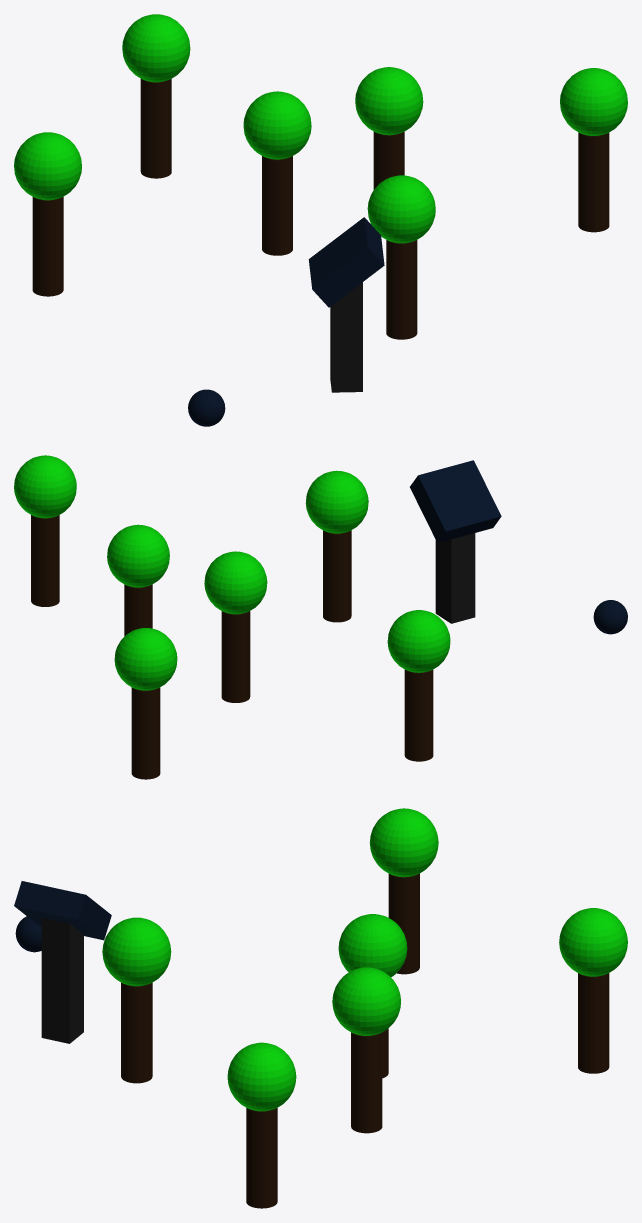
Rendered from exercise20038.obj.
The picture shows the model from 3 angles, top to bottom: view 1: azimuth 30°, elevation 25°; view 2: azimuth 150°, elevation 25°; view 3: azimuth 270°, elevation 25°; orthographic projection. The views are drawn at different scales.
Parts seen in each view (by area): view 1: Cube.001, Sphere.002, Sphere.005, Sphere.003, Sphere, Sphere.006, Sphere.004, Cube, Cylinder.004, Cylinder.006, Cylinder.005, Cylinder.003 (+4 smaller); view 2: Cube.001, Cube, Sphere.003, Sphere.004, Sphere.006, Sphere, Sphere.002, Sphere.005, Cylinder.005, Cylinder.006, Cylinder.002, Cylinder.004 (+4 smaller); view 3: Cube, Sphere.004, Sphere, Sphere.003, Sphere.005, Sphere.006, Sphere.002, Cube.001, Cylinder.003, Cylinder.005, Cylinder.004, Cylinder (+3 smaller).
Part boxes in pixels (x1=…): Cube.001: x1=308, y1=217, x2=384, y2=307; Sphere.002: x1=243, y1=91, x2=311, y2=159; Sphere.005: x1=122, y1=14, x2=190, y2=82; Sphere.003: x1=560, y1=68, x2=627, y2=135; Sphere: x1=355, y1=67, x2=423, y2=135; Sphere.006: x1=14, y1=132, x2=81, y2=200; Sphere.004: x1=367, y1=175, x2=435, y2=243; Cube: x1=330, y1=282, x2=362, y2=392; Cylinder.004: x1=386, y1=240, x2=417, y2=339; Cylinder.006: x1=32, y1=197, x2=63, y2=296; Cylinder.005: x1=140, y1=79, x2=171, y2=178; Cylinder.003: x1=578, y1=132, x2=609, y2=232; Cube.001: x1=410, y1=460, x2=501, y2=543; Cube: x1=435, y1=533, x2=475, y2=623; Sphere.003: x1=14, y1=455, x2=76, y2=518; Sphere.004: x1=305, y1=470, x2=368, y2=533; Sphere.006: x1=387, y1=610, x2=450, y2=672; Sphere: x1=107, y1=524, x2=169, y2=587; Sphere.002: x1=204, y1=551, x2=267, y2=614; Sphere.005: x1=114, y1=628, x2=177, y2=690; Cylinder.005: x1=131, y1=687, x2=160, y2=779; Cylinder.006: x1=404, y1=669, x2=433, y2=761; Cylinder.002: x1=221, y1=611, x2=250, y2=702; Cylinder.004: x1=323, y1=530, x2=351, y2=622; Cube: x1=41, y1=917, x2=83, y2=1043; Sphere.004: x1=102, y1=917, x2=171, y2=986; Sphere: x1=332, y1=967, x2=400, y2=1035; Sphere.003: x1=227, y1=1042, x2=296, y2=1111; Sphere.005: x1=559, y1=908, x2=627, y2=976; Sphere.006: x1=369, y1=808, x2=438, y2=877; Sphere.002: x1=338, y1=914, x2=407, y2=977; Cube.001: x1=14, y1=881, x2=111, y2=940; Cylinder.003: x1=246, y1=1108, x2=277, y2=1208; Cylinder.005: x1=578, y1=973, x2=609, y2=1073; Cylinder.004: x1=121, y1=982, x2=152, y2=1083; Cylinder: x1=351, y1=1032, x2=382, y2=1132.
Size of what is drawn, in the model's own units: 40.53 by 11.23 by 39.13.
